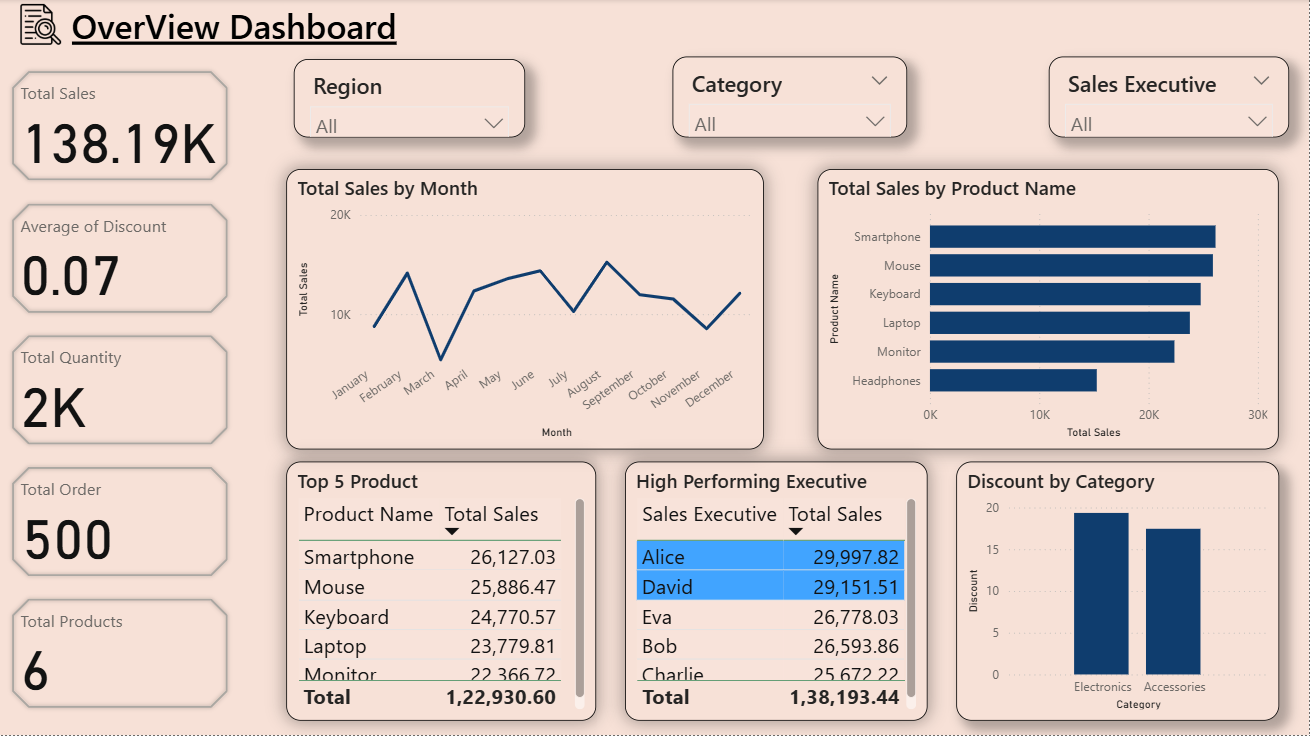

The page's visual inventory and layout, read from the dashboard file:
{"tool":"powerbi","page":{"name":"OverView Dashboard","canvas":[1280,720],"ordinal":0},"visuals":[{"type":"shape","box":[0,0,1279.7,50.5],"z":0},{"type":"image","box":[11,0,57.5,50.1],"z":1000},{"type":"slicer","fields":{"Values":["SalesData.Sales Executive"]},"box":[1025.8,56.3,235.2,79.4],"z":2000},{"type":"slicer","fields":{"Values":["ProductDetails.Category"]},"box":[657.9,56.3,229.4,79.4],"z":3000},{"type":"slicer","fields":{"Values":["SalesData.Region"]},"box":[287.1,59.2,226.5,76.5],"z":4000},{"type":"cardVisual","fields":{"Data":["SalesData.#Total_sales_revenue","SalesData.Discount","SalesData.Quantity","SalesData.#Total_orders","SalesData.#Unique_product_sold"]},"box":[0,59.2,235.2,647.8],"z":5000},{"type":"lineChart","fields":{"Y":["SalesData.#Total_sales_revenue"],"Category":["SalesData.Date.Variation.Date Hierarchy.Month"]},"box":[279.9,165.9,467.5,274.1],"z":6000},{"type":"clusteredBarChart","fields":{"Category":["ProductDetails.Product Name"],"Y":["SalesData.#Total_sales_revenue"]},"box":[799.3,165.9,451.6,274.1],"z":7000},{"type":"tableEx","title":"Top 5 Product","fields":{"Values":["ProductDetails.Product Name","SalesData.#Total_sales_revenue"]},"box":[279.9,453,303,253.9],"z":8000},{"type":"tableEx","title":"High Performing Executive","fields":{"Values":["SalesData.Sales Executive","SalesData.#Total_sales_revenue"]},"box":[611.7,453,295.8,253.9],"z":9000},{"type":"columnChart","fields":{"Category":["ProductDetails.Category"],"Y":["SalesData.Discount"]},"box":[934.9,453,316,253.9],"z":10000}]}

Visuals, with their boxes in screenshot pixels (x1, y1, x2, y2), scaled from the page's 1280x720 canvas onto the 1310x736 screenshot:
shape: detection(0, 0, 1309, 52)
image: detection(11, 0, 70, 51)
slicer - SalesData.Sales Executive: detection(1050, 58, 1291, 139)
slicer - ProductDetails.Category: detection(673, 58, 908, 139)
slicer - SalesData.Region: detection(294, 61, 526, 139)
cardVisual - SalesData.#Total_sales_revenue x SalesData.Discount: detection(0, 61, 241, 723)
lineChart - SalesData.#Total_sales_revenue x SalesData.Date.Variation.Date Hierarchy.Month: detection(286, 170, 765, 450)
clusteredBarChart - ProductDetails.Product Name x SalesData.#Total_sales_revenue: detection(818, 170, 1280, 450)
"Top 5 Product" tableEx: detection(286, 463, 597, 723)
"High Performing Executive" tableEx: detection(626, 463, 929, 723)
columnChart - ProductDetails.Category x SalesData.Discount: detection(957, 463, 1280, 723)
